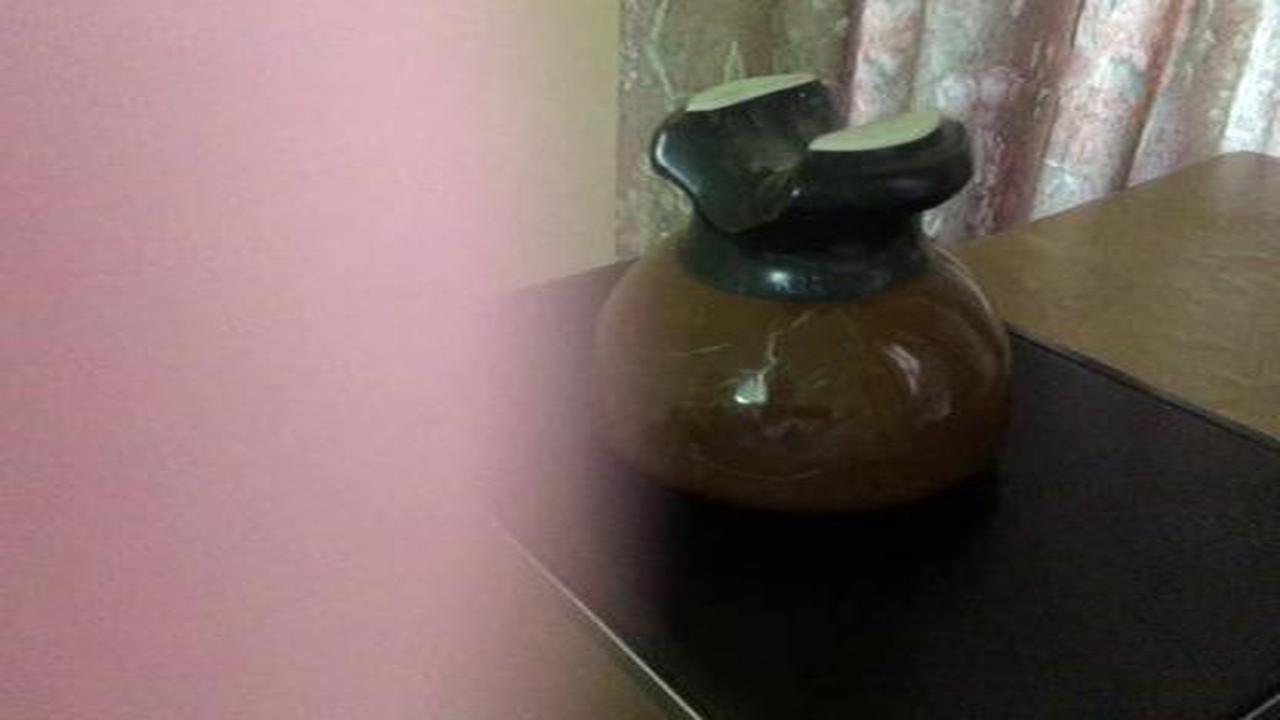insulator_pin: (576, 63, 1047, 541)
